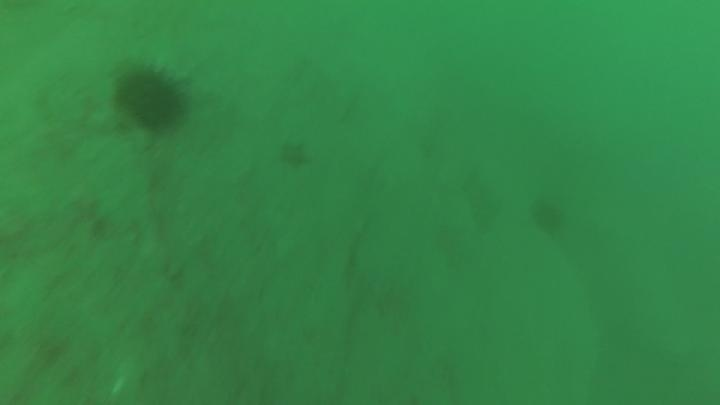echinus: (108, 59, 194, 138), (527, 195, 568, 238)
